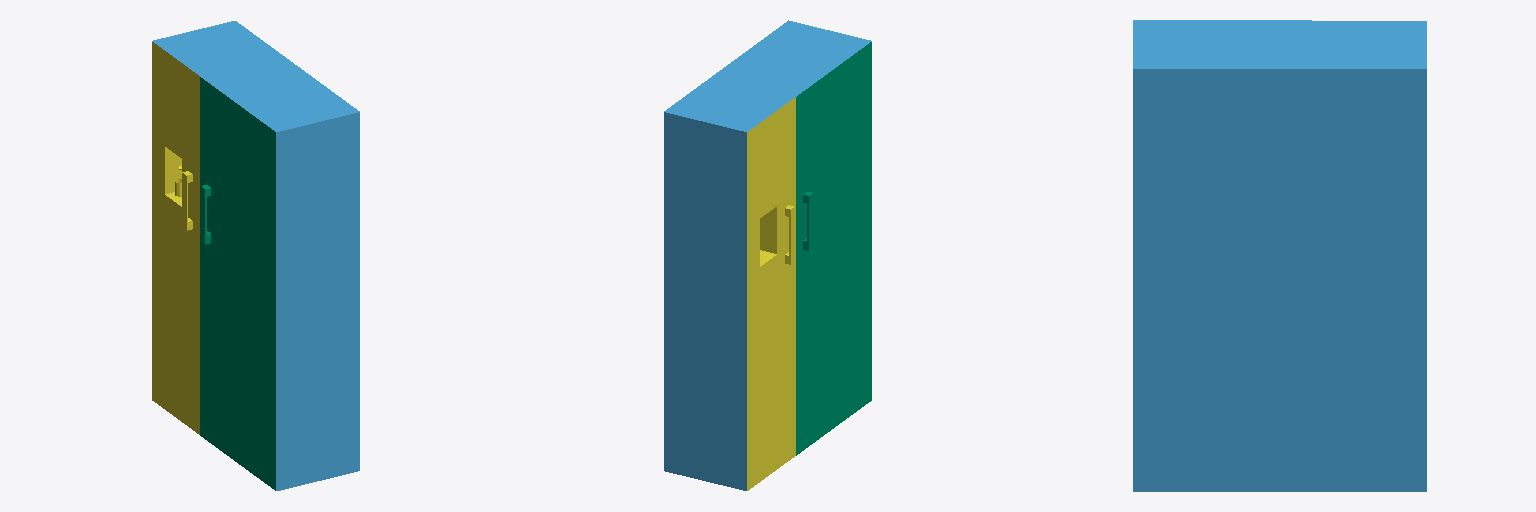
URDF robot description (partnet_52356ccfc05934f2a41386d23d519c74):
<?xml version="1.0" ?>
<robot name="partnet_52356ccfc05934f2a41386d23d519c74">
	<link name="base"/>
	<link name="link_0">
		<visual name="frame-7">
			<origin xyz="0 0 0"/>
			<geometry>
				<mesh filename="textured_objs/new-6.obj"/>
			</geometry>
		</visual>
		<visual name="frame-7">
			<origin xyz="0 0 0"/>
			<geometry>
				<mesh filename="textured_objs/new-11.obj"/>
			</geometry>
		</visual>
		<collision>
			<origin xyz="0 0 0"/>
			<geometry>
				<mesh filename="textured_objs/new-6.obj"/>
			</geometry>
		</collision>
		<collision>
			<origin xyz="0 0 0"/>
			<geometry>
				<mesh filename="textured_objs/new-11.obj"/>
			</geometry>
		</collision>
	</link>
	<joint name="joint_0" type="fixed">
		<origin rpy="1.570796326794897 0 -1.570796326794897" xyz="0 0 0"/>
		<child link="link_0"/>
		<parent link="base"/>
	</joint>
	<link name="link_1">
		<visual name="door_frame-12">
			<origin xyz="-0.5018334931065915 -0.8400639999999999 -0.18692712456529925"/>
			<geometry>
				<mesh filename="textured_objs/new-8.obj"/>
			</geometry>
		</visual>
		<visual name="handle-13">
			<origin xyz="-0.5018334931065915 -0.8400639999999999 -0.18692712456529925"/>
			<geometry>
				<mesh filename="textured_objs/new-7.obj"/>
			</geometry>
		</visual>
		<collision>
			<origin xyz="-0.5018334931065915 -0.8400639999999999 -0.18692712456529925"/>
			<geometry>
				<mesh filename="textured_objs/new-8.obj"/>
			</geometry>
		</collision>
		<collision>
			<origin xyz="-0.5018334931065915 -0.8400639999999999 -0.18692712456529925"/>
			<geometry>
				<mesh filename="textured_objs/new-7.obj"/>
			</geometry>
		</collision>
	</link>
	<joint name="joint_1" type="revolute">
		<origin xyz="0.5018334931065915 0.8400639999999999 0.18692712456529925"/>
		<axis xyz="0 1 0"/>
		<child link="link_1"/>
		<parent link="link_0"/>
		<limit lower="-0.0" upper="3.141592653589793"/>
	</joint>
	<link name="link_2">
		<visual name="control_panel-16">
			<origin xyz="0.5103242329668447 -0.8400639999999999 -0.19646803644768696"/>
			<geometry>
				<mesh filename="textured_objs/original-7.obj"/>
			</geometry>
		</visual>
		<visual name="control_panel-16">
			<origin xyz="0.5103242329668447 -0.8400639999999999 -0.19646803644768696"/>
			<geometry>
				<mesh filename="textured_objs/original-8.obj"/>
			</geometry>
		</visual>
		<visual name="control_panel-16">
			<origin xyz="0.5103242329668447 -0.8400639999999999 -0.19646803644768696"/>
			<geometry>
				<mesh filename="textured_objs/original-5.obj"/>
			</geometry>
		</visual>
		<visual name="control_panel-16">
			<origin xyz="0.5103242329668447 -0.8400639999999999 -0.19646803644768696"/>
			<geometry>
				<mesh filename="textured_objs/original-3.obj"/>
			</geometry>
		</visual>
		<visual name="control_panel-16">
			<origin xyz="0.5103242329668447 -0.8400639999999999 -0.19646803644768696"/>
			<geometry>
				<mesh filename="textured_objs/original-4.obj"/>
			</geometry>
		</visual>
		<visual name="control_panel-16">
			<origin xyz="0.5103242329668447 -0.8400639999999999 -0.19646803644768696"/>
			<geometry>
				<mesh filename="textured_objs/new-9.obj"/>
			</geometry>
		</visual>
		<visual name="control_panel-16">
			<origin xyz="0.5103242329668447 -0.8400639999999999 -0.19646803644768696"/>
			<geometry>
				<mesh filename="textured_objs/original-6.obj"/>
			</geometry>
		</visual>
		<visual name="door_frame-10">
			<origin xyz="0.5103242329668447 -0.8400639999999999 -0.19646803644768696"/>
			<geometry>
				<mesh filename="textured_objs/new-10.obj"/>
			</geometry>
		</visual>
		<visual name="handle-11">
			<origin xyz="0.5103242329668447 -0.8400639999999999 -0.19646803644768696"/>
			<geometry>
				<mesh filename="textured_objs/original-2.obj"/>
			</geometry>
		</visual>
		<collision>
			<origin xyz="0.5103242329668447 -0.8400639999999999 -0.19646803644768696"/>
			<geometry>
				<mesh filename="textured_objs/original-7.obj"/>
			</geometry>
		</collision>
		<collision>
			<origin xyz="0.5103242329668447 -0.8400639999999999 -0.19646803644768696"/>
			<geometry>
				<mesh filename="textured_objs/original-8.obj"/>
			</geometry>
		</collision>
		<collision>
			<origin xyz="0.5103242329668447 -0.8400639999999999 -0.19646803644768696"/>
			<geometry>
				<mesh filename="textured_objs/original-5.obj"/>
			</geometry>
		</collision>
		<collision>
			<origin xyz="0.5103242329668447 -0.8400639999999999 -0.19646803644768696"/>
			<geometry>
				<mesh filename="textured_objs/original-3.obj"/>
			</geometry>
		</collision>
		<collision>
			<origin xyz="0.5103242329668447 -0.8400639999999999 -0.19646803644768696"/>
			<geometry>
				<mesh filename="textured_objs/original-4.obj"/>
			</geometry>
		</collision>
		<collision>
			<origin xyz="0.5103242329668447 -0.8400639999999999 -0.19646803644768696"/>
			<geometry>
				<mesh filename="textured_objs/new-9.obj"/>
			</geometry>
		</collision>
		<collision>
			<origin xyz="0.5103242329668447 -0.8400639999999999 -0.19646803644768696"/>
			<geometry>
				<mesh filename="textured_objs/original-6.obj"/>
			</geometry>
		</collision>
		<collision>
			<origin xyz="0.5103242329668447 -0.8400639999999999 -0.19646803644768696"/>
			<geometry>
				<mesh filename="textured_objs/new-10.obj"/>
			</geometry>
		</collision>
		<collision>
			<origin xyz="0.5103242329668447 -0.8400639999999999 -0.19646803644768696"/>
			<geometry>
				<mesh filename="textured_objs/original-2.obj"/>
			</geometry>
		</collision>
	</link>
	<joint name="joint_2" type="revolute">
		<origin xyz="-0.5103242329668447 0.8400639999999999 0.19646803644768696"/>
		<axis xyz="0 -1 0"/>
		<child link="link_2"/>
		<parent link="link_0"/>
		<limit lower="0.0" upper="3.141592653589793"/>
	</joint>
</robot>

--- Render facts (derived) ---
Views: 3 orthographic renders of the robot side by side, from view 1: azimuth 30°, elevation 25°; view 2: azimuth 150°, elevation 25°; view 3: azimuth 270°, elevation 25°.
Model partnet_52356ccfc05934f2a41386d23d519c74 with 4 links and 3 joints (2 revolute, 1 fixed), rooted at base, posed all joints at 0.
Links seen in each view (by area): view 1: link_0, link_1, link_2; view 2: link_0, link_1, link_2; view 3: link_0.
Boxes of the visible links, x1,y1,x2,y2 form: link_0: (152,21,359,490); link_1: (200,77,275,490); link_2: (152,42,199,434); link_0: (664,20,871,490); link_1: (796,42,871,455); link_2: (747,97,795,490); link_0: (1133,20,1426,491).
Size in the robot's own frame: 0.4362 by 1.05 by 1.66 metres.
13 mesh visuals loaded from 13 distinct referenced files (13 OBJ).
